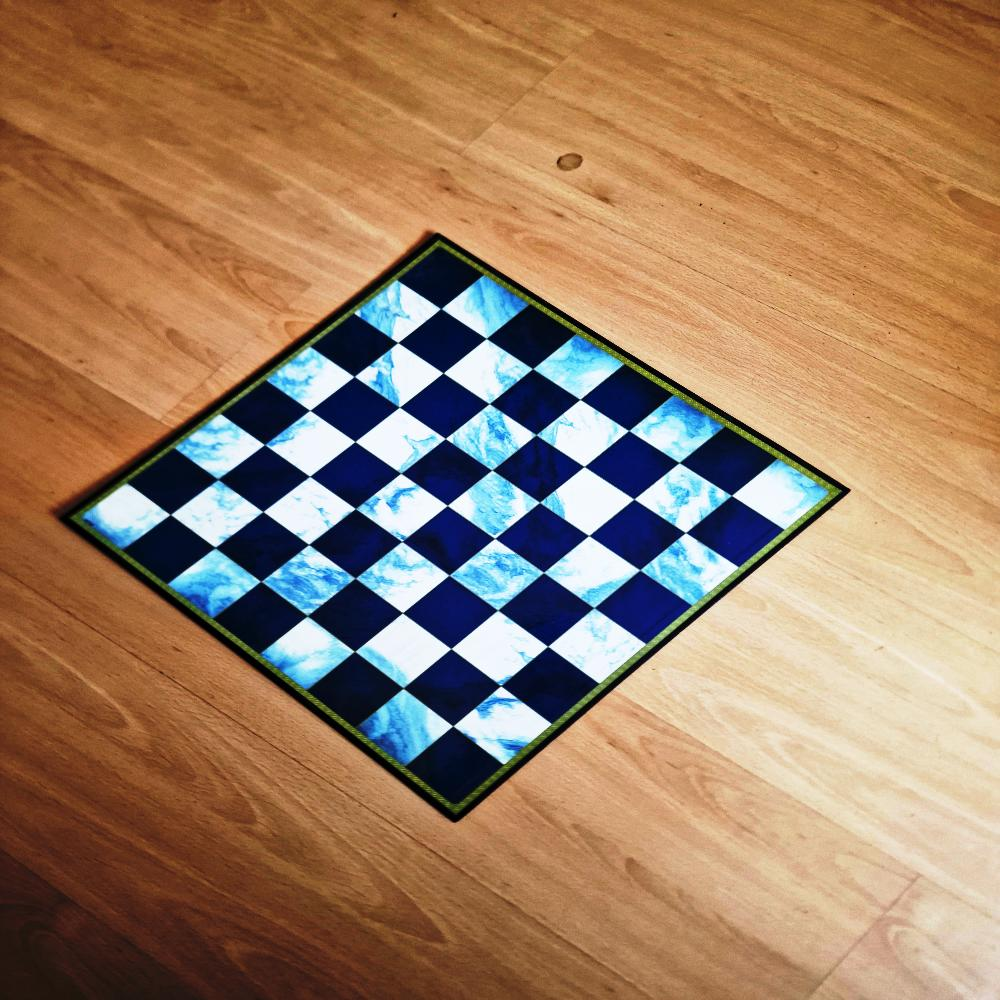chessfield: (733, 461, 847, 538), (452, 688, 555, 771), (62, 486, 170, 562), (405, 730, 502, 814), (353, 690, 452, 771), (638, 535, 741, 610), (551, 613, 650, 691), (256, 619, 353, 697), (503, 652, 603, 727), (451, 614, 550, 688), (355, 616, 451, 691), (546, 536, 643, 610), (404, 654, 499, 729), (634, 464, 731, 536), (166, 549, 263, 621), (306, 657, 400, 731), (450, 539, 545, 612), (354, 542, 449, 614), (628, 395, 724, 466), (599, 576, 694, 647), (501, 575, 593, 648), (260, 546, 354, 617), (404, 578, 496, 650), (688, 501, 781, 572), (542, 468, 636, 538), (308, 582, 400, 653), (171, 412, 264, 482), (171, 480, 264, 550), (262, 477, 354, 547), (590, 503, 682, 572), (448, 472, 541, 540), (535, 401, 626, 470), (218, 514, 309, 583), (262, 348, 357, 414), (682, 428, 774, 496), (446, 406, 538, 474), (215, 586, 307, 654), (533, 336, 626, 403), (444, 340, 535, 408), (356, 476, 448, 543), (498, 507, 588, 575), (263, 413, 354, 480), (354, 410, 445, 476), (442, 274, 533, 340), (126, 452, 216, 518), (310, 514, 399, 580), (587, 433, 676, 499), (403, 443, 491, 509), (126, 518, 214, 584), (354, 346, 444, 410), (582, 365, 669, 431), (404, 511, 492, 576), (312, 446, 398, 512), (358, 282, 444, 348), (221, 450, 309, 514), (496, 438, 584, 502), (397, 246, 483, 311), (494, 372, 581, 436), (309, 313, 395, 377), (224, 384, 310, 448), (403, 376, 488, 440), (312, 382, 397, 445), (492, 307, 576, 370), (401, 312, 486, 374)
